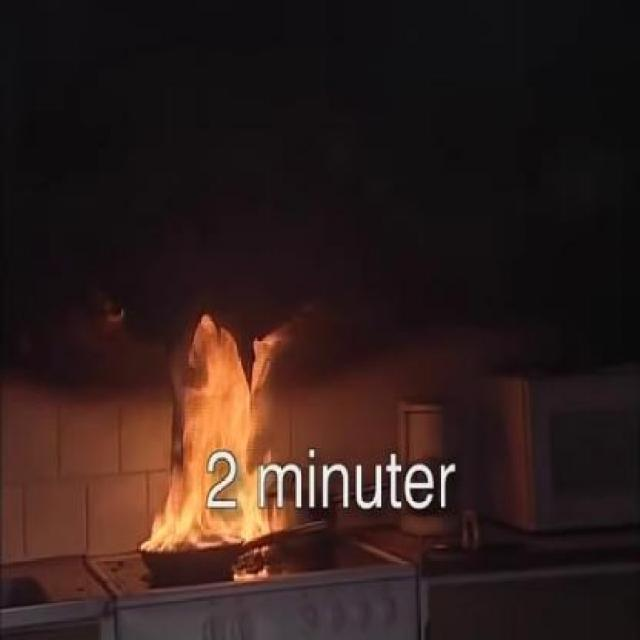fire: (149, 300, 280, 551)
smoke: (49, 276, 125, 378), (297, 268, 365, 374)
